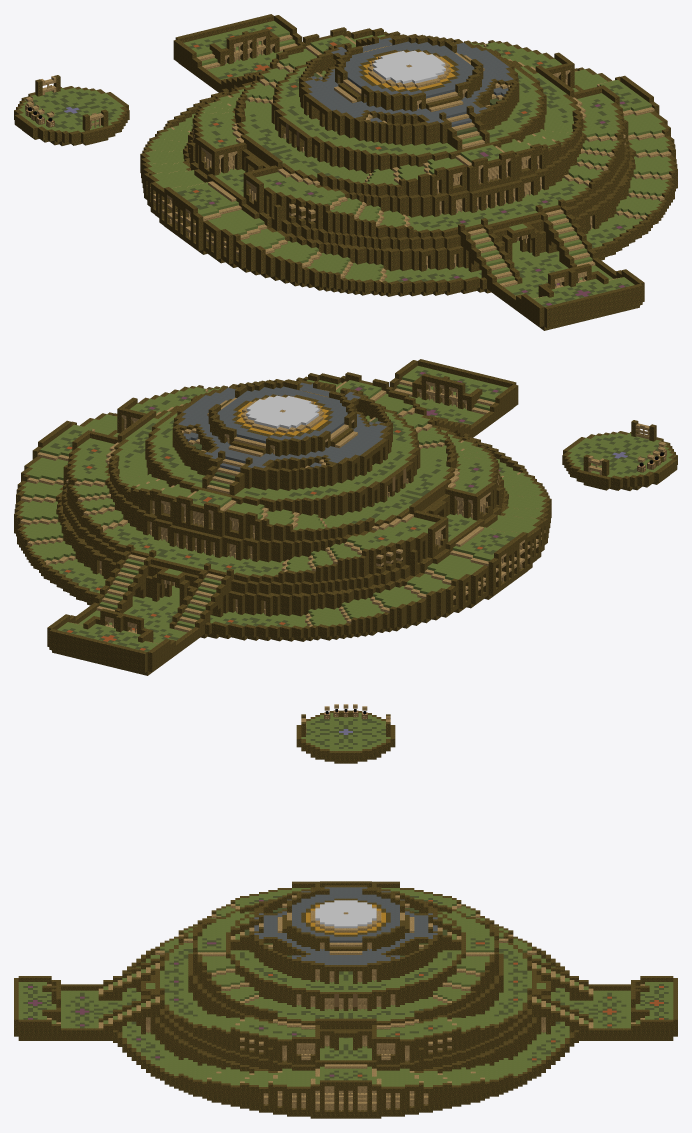
File: minecraft.obj
The picture shows the model from 3 angles, top to bottom: view 1: azimuth 30°, elevation 25°; view 2: azimuth 150°, elevation 25°; view 3: azimuth 270°, elevation 25°; orthographic projection. The views are drawn at different scales.
Bounding box in the file's own units: 135 × 41 × 141.
